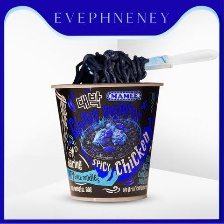paper_cup: (42, 78, 170, 208)
